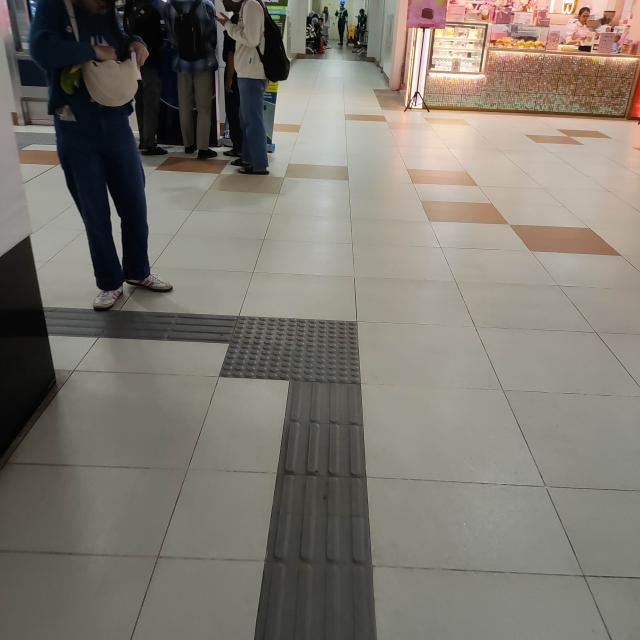kiri: (155, 277, 398, 415)
